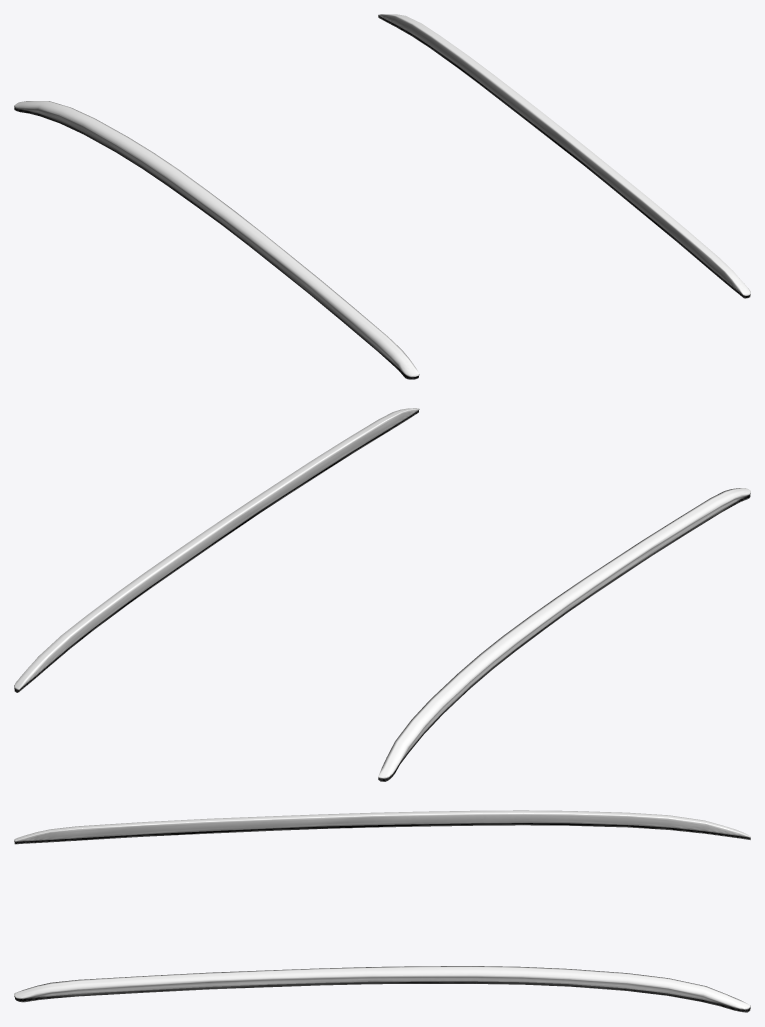
The model's file is roof_rail.glb.
3 renders of one model, top to bottom at view 1: azimuth 30°, elevation 25°; view 2: azimuth 150°, elevation 25°; view 3: azimuth 270°, elevation 25°, orthographic. The views are drawn at different scales.
Visible parts, largest first — view 1: roof_rail; view 2: roof_rail; view 3: roof_rail.
Boxes of the visible parts, box(x1,y1,x2,y2) form: roof_rail: box(14, 14, 750, 379); roof_rail: box(14, 408, 750, 781); roof_rail: box(14, 810, 750, 1012).
Bounding box in the file's own units: 1.02 × 0.0961 × 1.81.
Materials: 1 (1 with a texture image).
